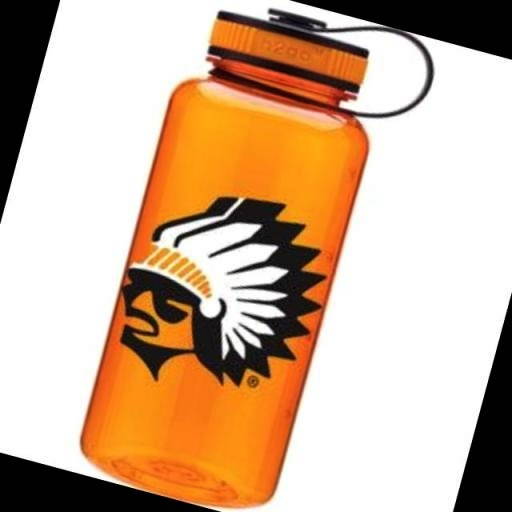bottle: (68, 1, 395, 512)
